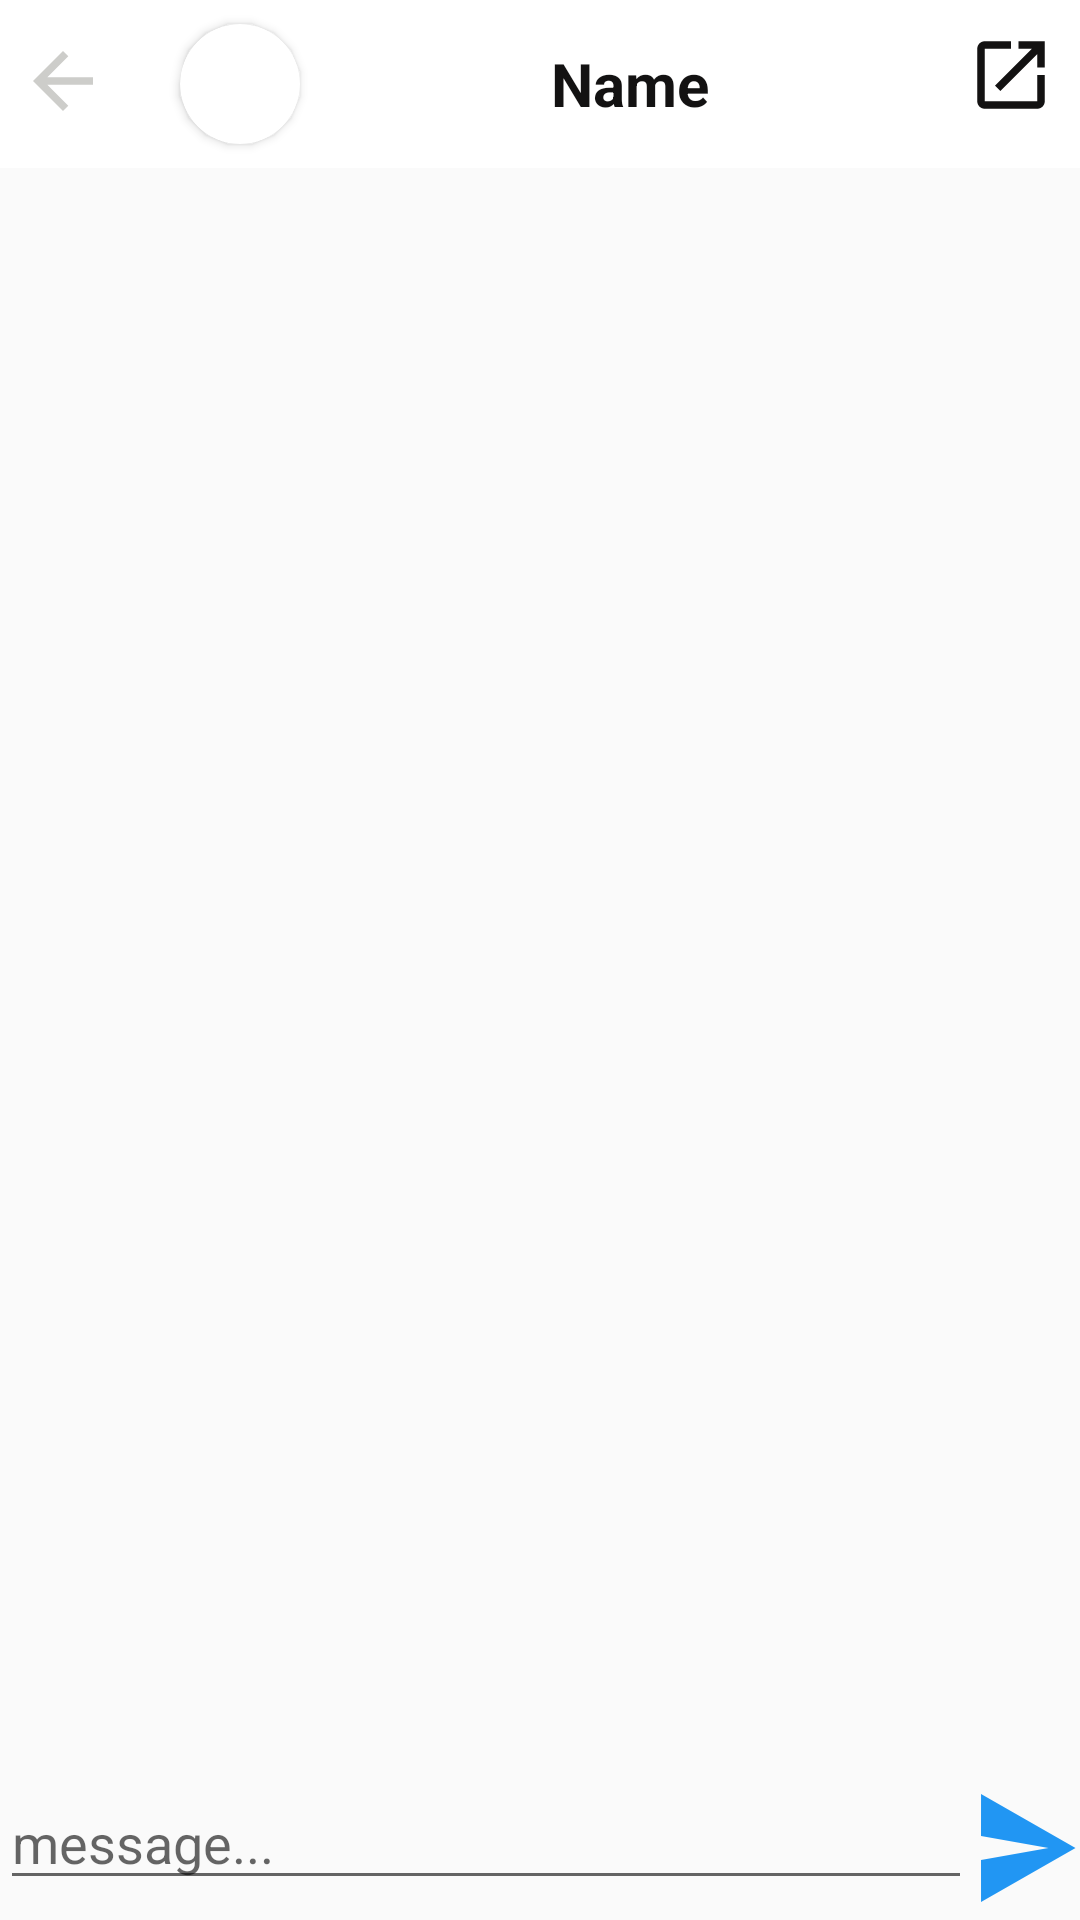

Named icons in this screenshot (1080x1920) and their bounding boxes, (x1, y1, x2, y2):
launch: (977, 41, 1045, 109)
